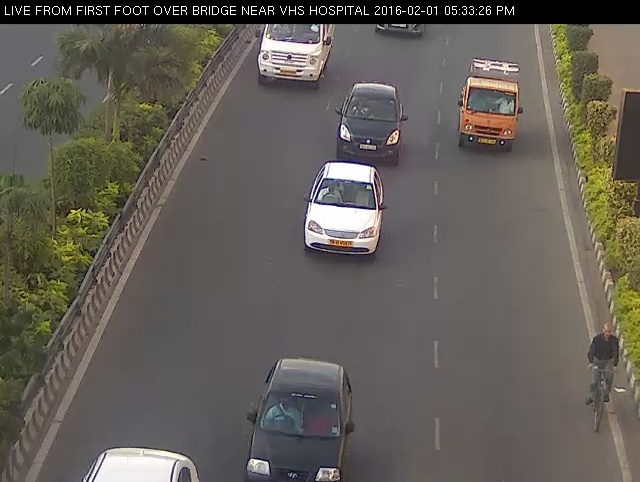Auto: (453, 53, 526, 167)
Bus: (241, 14, 344, 89)
Car: (229, 354, 368, 479), (295, 158, 395, 269), (327, 68, 415, 175), (56, 433, 217, 482), (362, 10, 437, 43)
